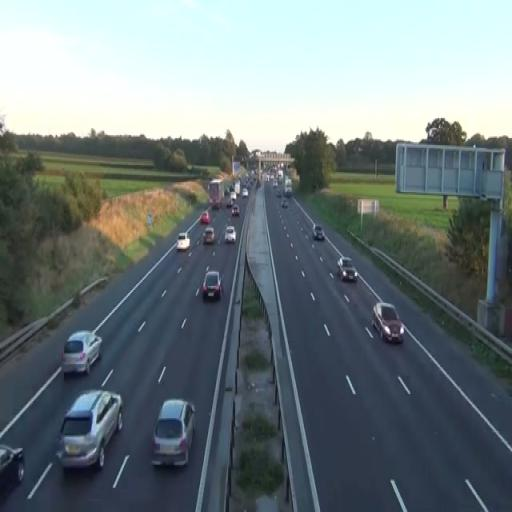Car: (58, 388, 124, 472), (150, 398, 196, 470), (61, 330, 102, 375), (371, 302, 403, 344), (202, 271, 224, 301), (336, 256, 358, 283), (176, 232, 191, 252), (203, 226, 215, 245), (225, 224, 236, 244), (312, 224, 324, 241), (200, 210, 210, 224)
